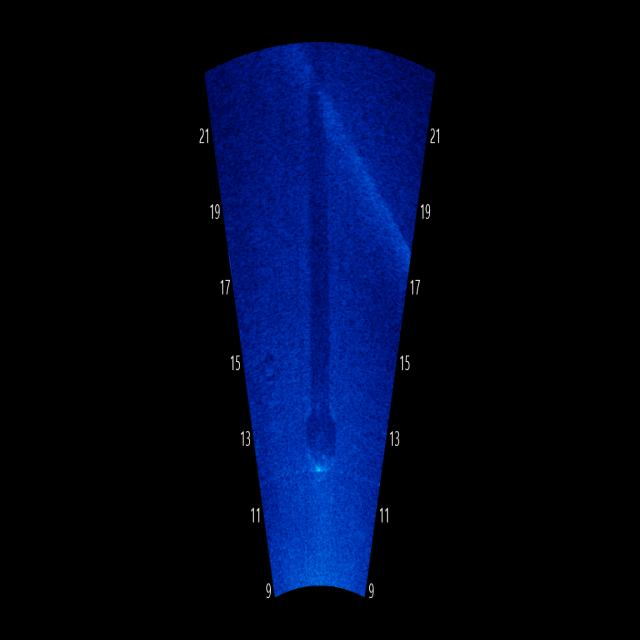circle: (259, 345, 283, 385)
square: (304, 416, 340, 487)
